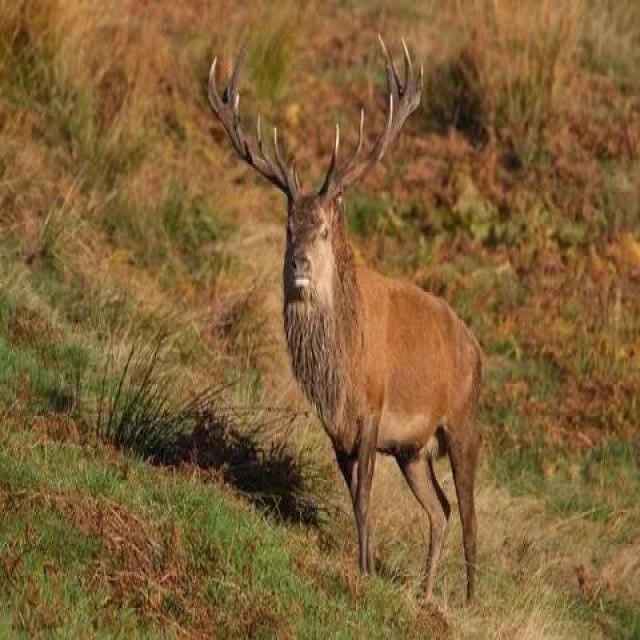deer: (220, 84, 504, 535)
